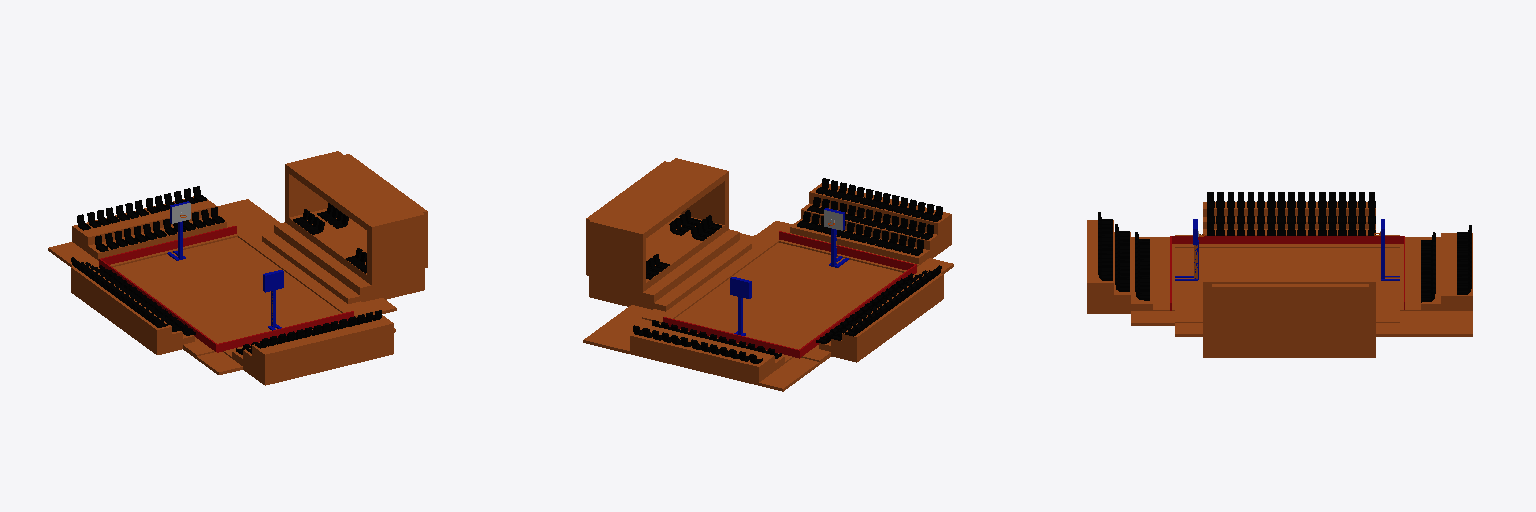
File: BasketballCourt.obj
3 views of the same model, side by side, from view 1: azimuth 30°, elevation 25°; view 2: azimuth 150°, elevation 25°; view 3: azimuth 270°, elevation 25° (orthographic).
Parts seen in each view (by area): view 1: Cube, Cube.141_Cube.176, Cube.139_Cube.173, Cube.140_Cube.175; view 2: Cube, Cube.139_Cube.173, Cube.141_Cube.176, Cube.140_Cube.175; view 3: Cube, Cube.140_Cube.175.
Part boxes in pixels (left/top/right/bottom): Cube: left=48, top=151, right=427, bottom=385; Cube.141_Cube.176: left=99, top=226, right=236, bottom=265; Cube.139_Cube.173: left=217, top=311, right=353, bottom=352; Cube.140_Cube.175: left=100, top=259, right=216, bottom=351; Cube: left=583, top=158, right=953, bottom=391; Cube.139_Cube.173: left=779, top=231, right=916, bottom=269; Cube.141_Cube.176: left=663, top=317, right=800, bottom=358; Cube.140_Cube.175: left=799, top=265, right=916, bottom=356; Cube: left=1087, top=202, right=1472, bottom=357; Cube.140_Cube.175: left=1172, top=236, right=1403, bottom=243.
Bounding box in the file's own units: 72.36 × 19.1 × 87.72.